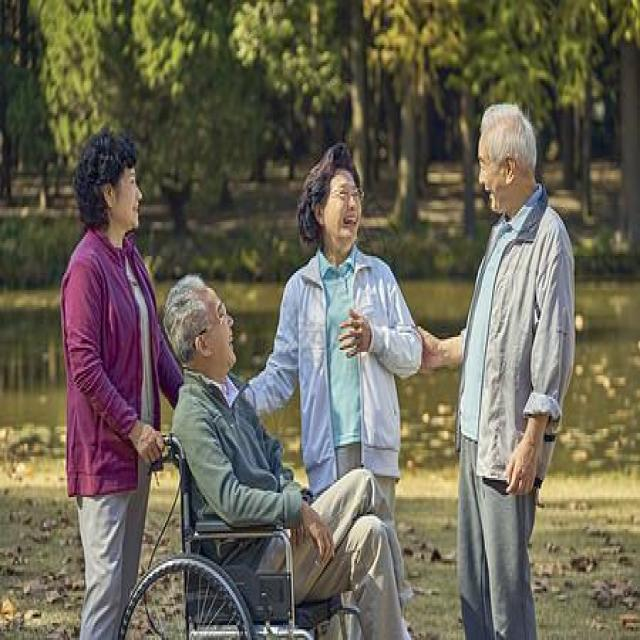wheelchairs: (115, 415, 376, 640)
